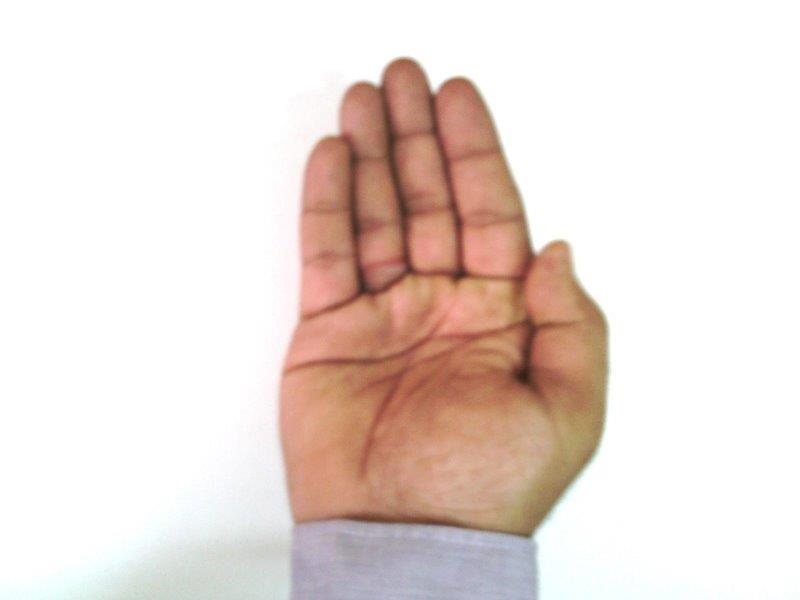hand: (277, 56, 608, 526)
